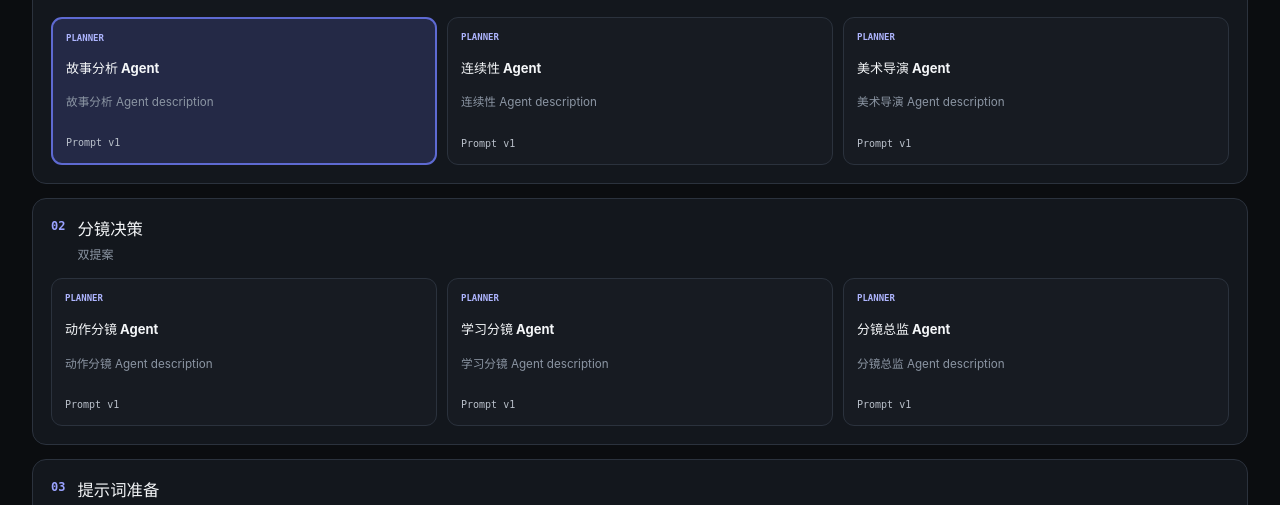
Scenario: ImageAgentFlowPage › derives and displays fixed upstream and downstream relationships
(page scrolled)
Click the button with aria-label "分镜总监 Agent Agent".
click(876, 298)  # box x1=843 y1=278 x2=1229 y2=426
(page scrolled)
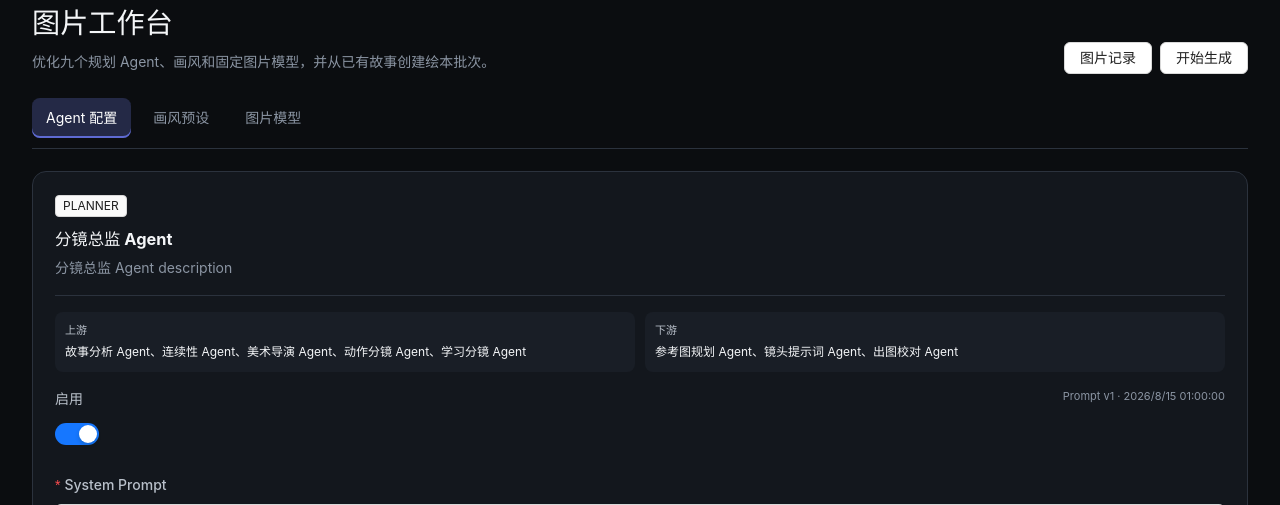
Check: the text "故事分析 Agent、连续性 Agent、美术导演 Agent、动作分镜 Agent、学习分镜 Agent" is shown, box x1=65 y1=344 x2=526 y2=359
Check: the text "参考图规划 Agent、镜头提示词 Agent、出图校对 Agent" is shown, box x1=655 y1=344 x2=958 y2=359
